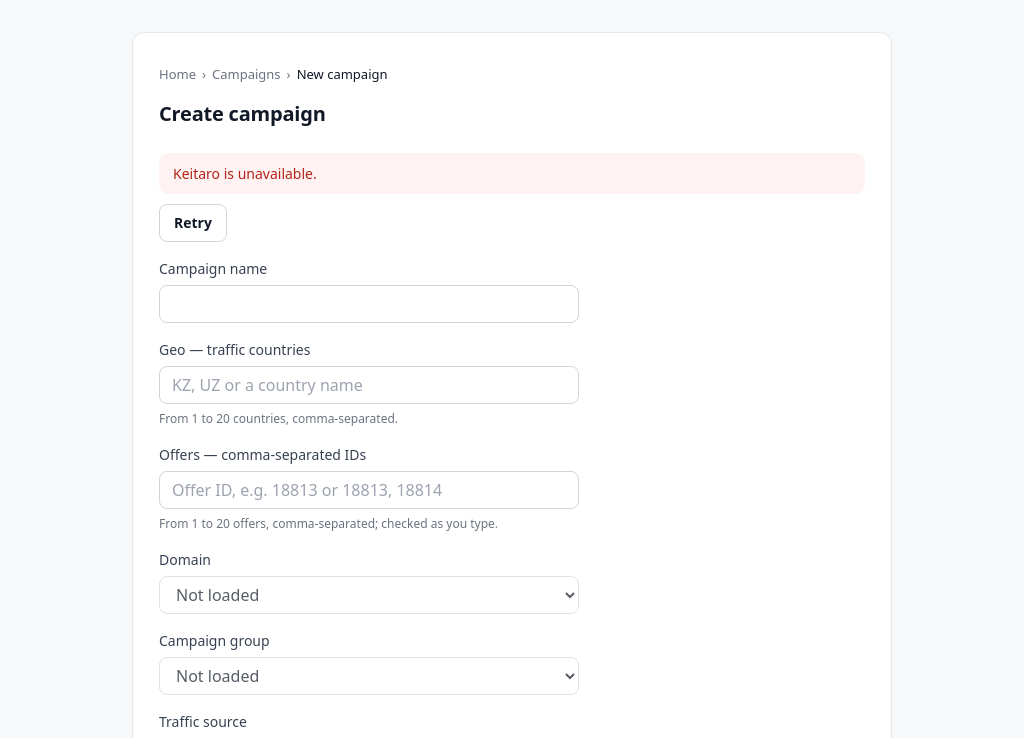
Scenario: NewCampaignPage — dictionaries › dictionary error: "Retry", the form is not blocked, inputs work
Expected: the message "Keitaro is unavailable. Retry" is shown, x1=159 y1=152 x2=865 y2=242
Expected: the button "Retry" is shown, x1=159 y1=204 x2=227 y2=242
Note: форма не заблокирована: имя можно вводить
Type "x" into the field with id "campaign-name".
click(369, 304); type("x")  # box x1=159 y1=284 x2=579 y2=322
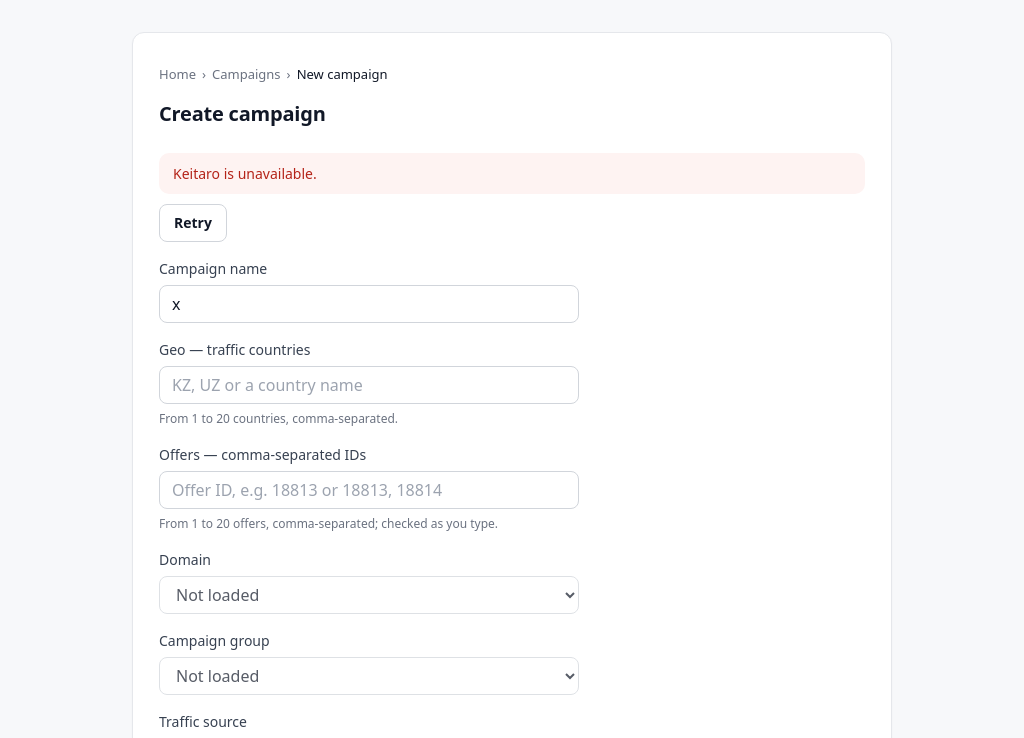
Expected: the dropdown with id "campaign-domain" is disabled, x1=159 y1=576 x2=579 y2=614
Click the button "Retry".
click(193, 222)  # box x1=159 y1=204 x2=227 y2=242
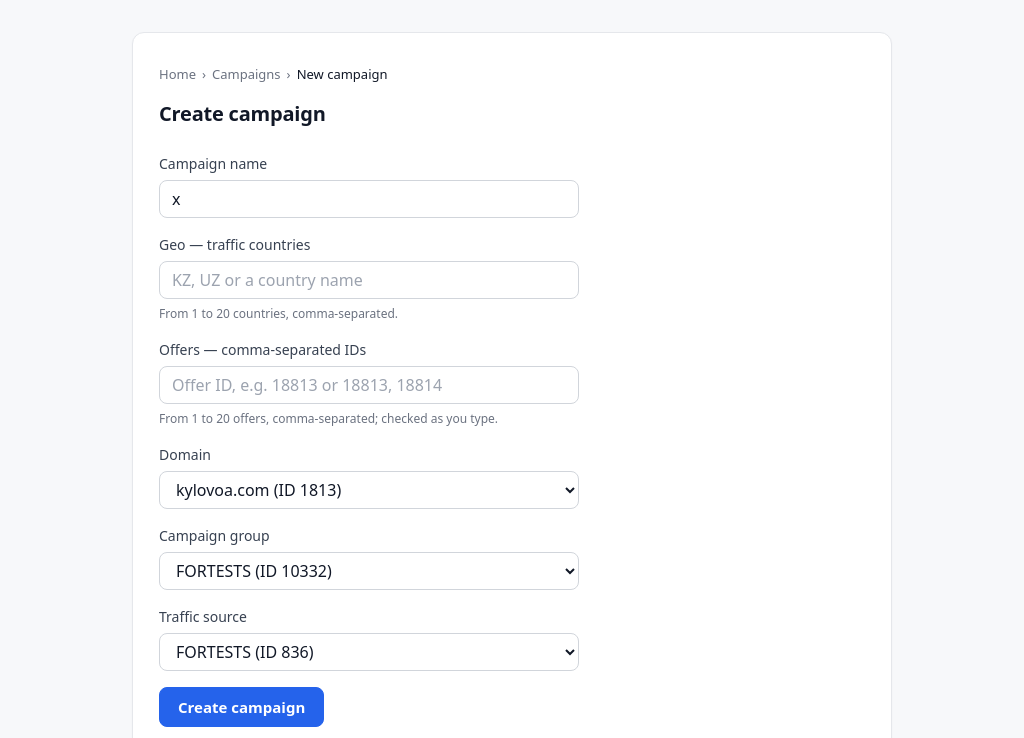
Result: the dropdown with id "campaign-domain" is enabled at x1=159 y1=470 x2=579 y2=508
Result: the dropdown with id "campaign-domain" shows "kylovoa.com (ID 1813)" at x1=159 y1=470 x2=579 y2=508
